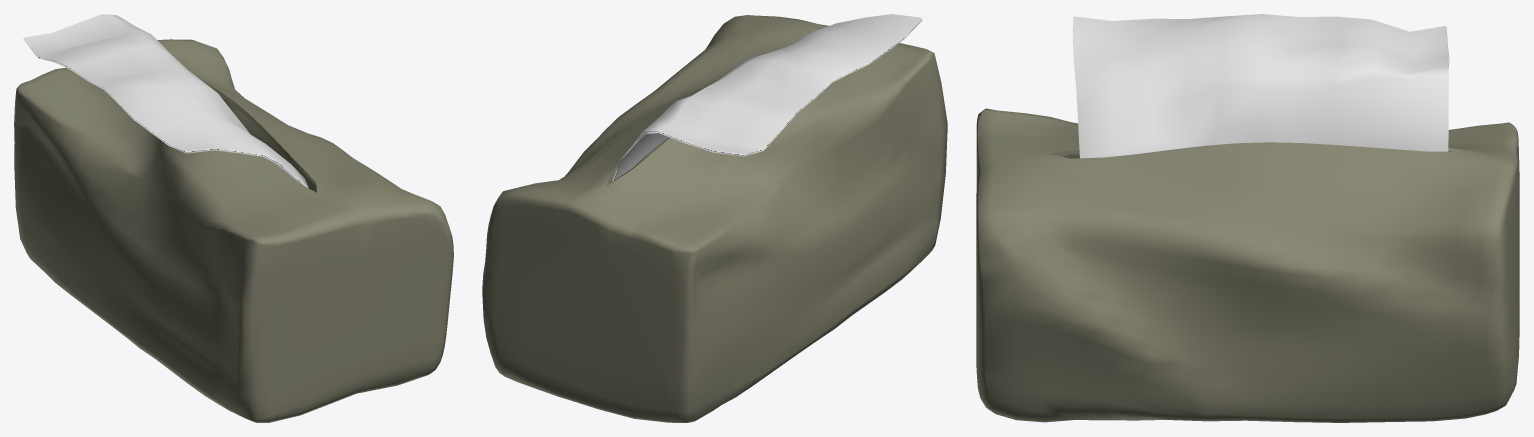
File: BATHROOM_TISSUE.fbx
3 views of the same model, side by side, from view 1: azimuth 30°, elevation 25°; view 2: azimuth 150°, elevation 25°; view 3: azimuth 270°, elevation 25° (orthographic). The views are drawn at different scales.
Visible parts, largest first — view 1: Bathroom_tissue, Toilet_paper; view 2: Bathroom_tissue, Toilet_paper; view 3: Bathroom_tissue, Toilet_paper.
Part boxes in pixels (x1,y1,x2,y2): Bathroom_tissue: (14,39,453,422); Toilet_paper: (23,14,308,188); Bathroom_tissue: (482,15,947,422); Toilet_paper: (612,14,922,181); Bathroom_tissue: (976,108,1519,422); Toilet_paper: (1072,14,1449,158).
Size of the model in its own units: 0.2391 by 0.25 by 0.4111.
